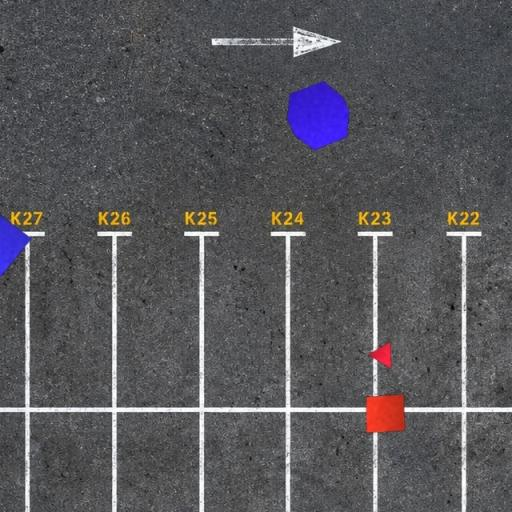BLUE_SQUARE: (0, 195, 33, 296)
RED_SQUARE: (364, 394, 406, 434)
